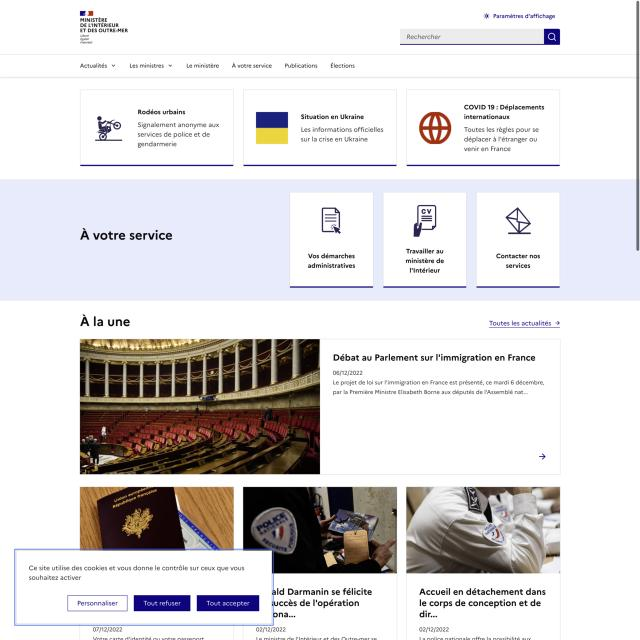input: (399, 27, 562, 47)
logo: (77, 8, 132, 46)
navigation: (76, 57, 358, 74)
